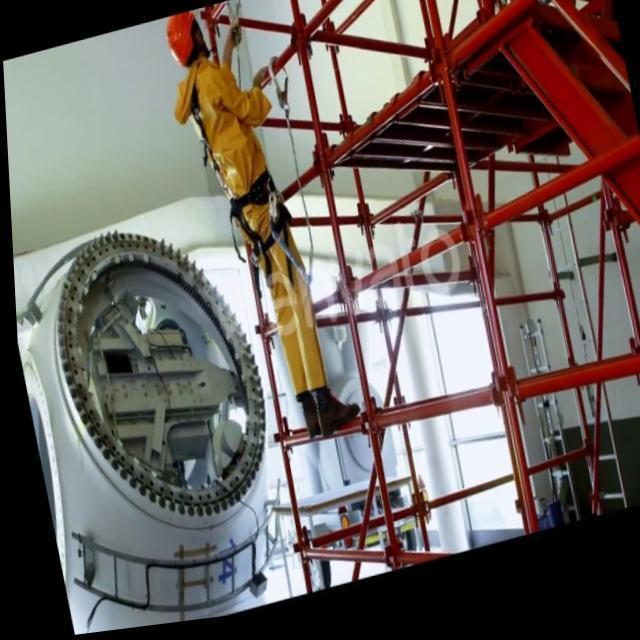safety belt: (162, 84, 316, 299)
